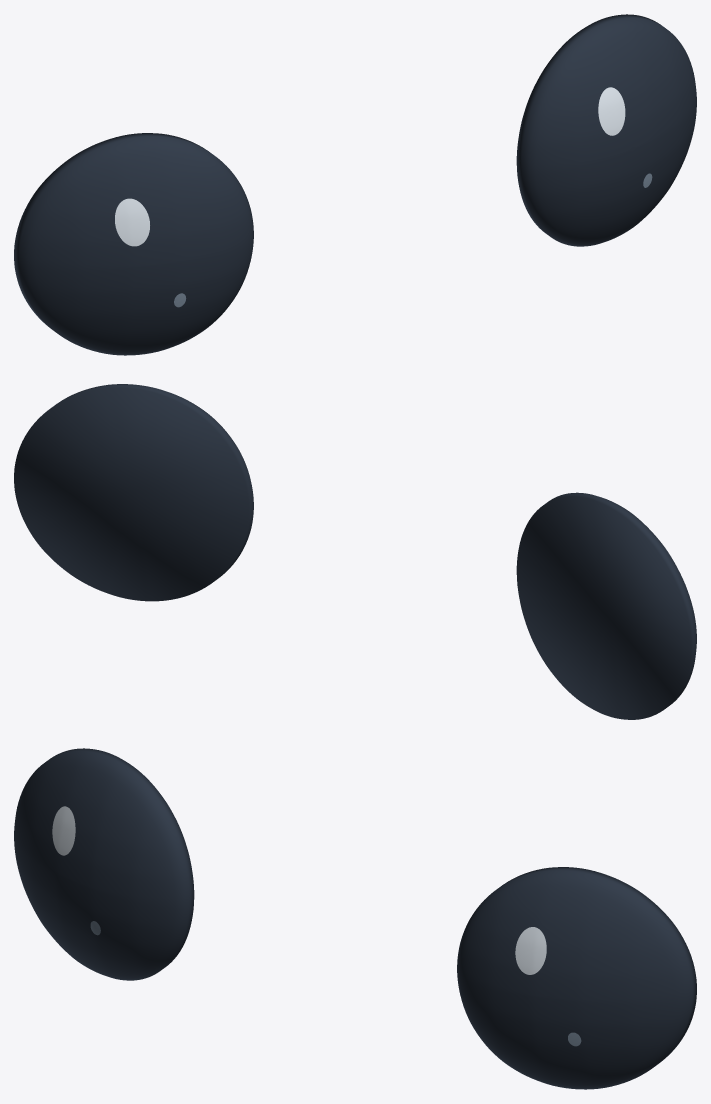
File: Masculine-eyes-soft.glb
3 views of the same model, one above another, from view 1: azimuth 30°, elevation 25°; view 2: azimuth 150°, elevation 25°; view 3: azimuth 330°, elevation 25° (orthographic).
Visible parts, largest first — view 1: Eye / soft -1, Eye / soft 1, Eye highlight / main -1, Eye highlight / main 1; view 2: Eye / soft 1, Eye / soft -1; view 3: Eye / soft 1, Eye / soft -1, Eye highlight / main 1, Eye highlight / main -1.
Boxes of the visible parts, x1=… form: Eye / soft -1: x1=14, y1=133, x2=253, y2=355; Eye / soft 1: x1=516, y1=14, x2=696, y2=246; Eye highlight / main -1: x1=115, y1=198, x2=149, y2=246; Eye highlight / main 1: x1=598, y1=87, x2=625, y2=135; Eye / soft 1: x1=14, y1=384, x2=253, y2=601; Eye / soft -1: x1=516, y1=492, x2=696, y2=719; Eye / soft 1: x1=457, y1=867, x2=696, y2=1089; Eye / soft -1: x1=14, y1=748, x2=194, y2=980; Eye highlight / main 1: x1=515, y1=927, x2=546, y2=974; Eye highlight / main -1: x1=52, y1=806, x2=75, y2=855.
Bounding box in the file's own units: 0.43 × 0.1301 × 0.0519.
